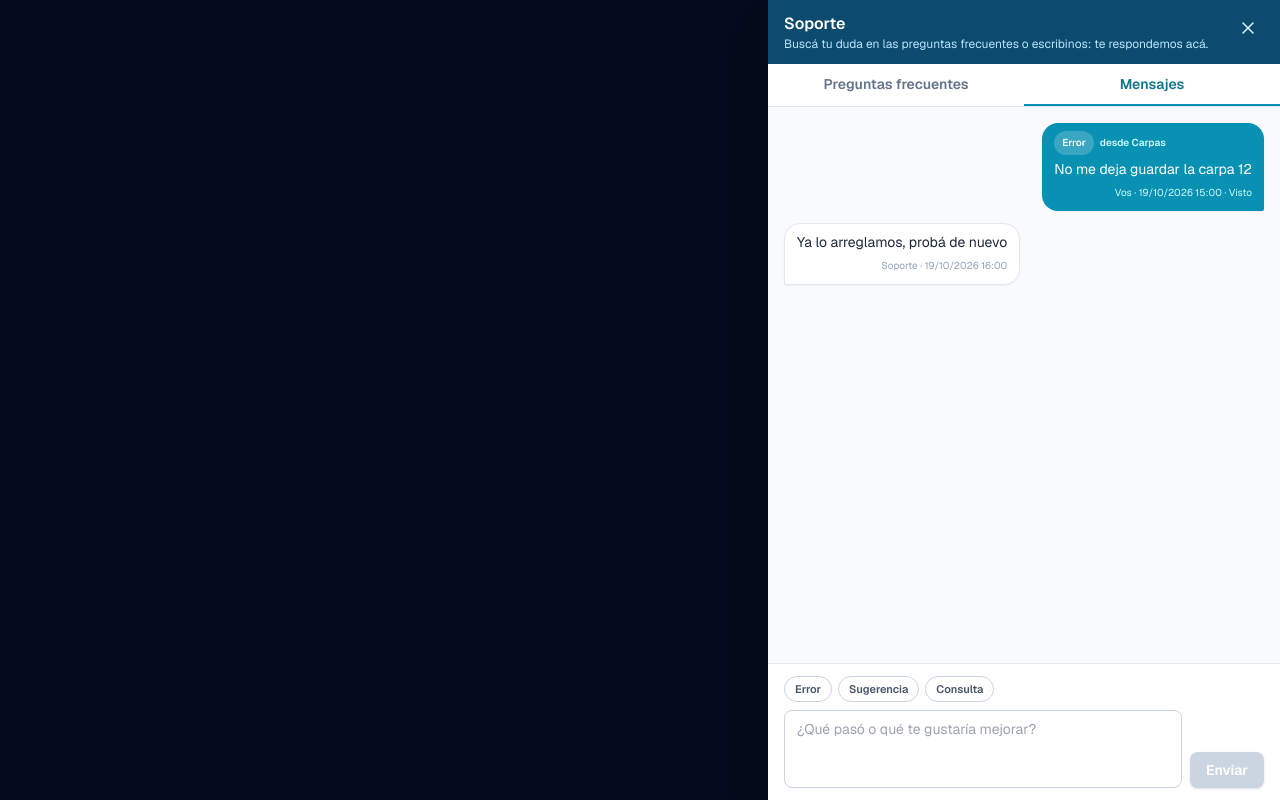
it: panel de soporte del balneario › si la API frena el envio, muestra el aviso y conserva lo escrito
Expected: the text "No me deja guardar la carpa 12" is shown, [1054, 159, 1252, 179]
Type "hola" into the text box named "Mensaje".
click(983, 749); type("hola")  # box [784, 710, 1182, 788]
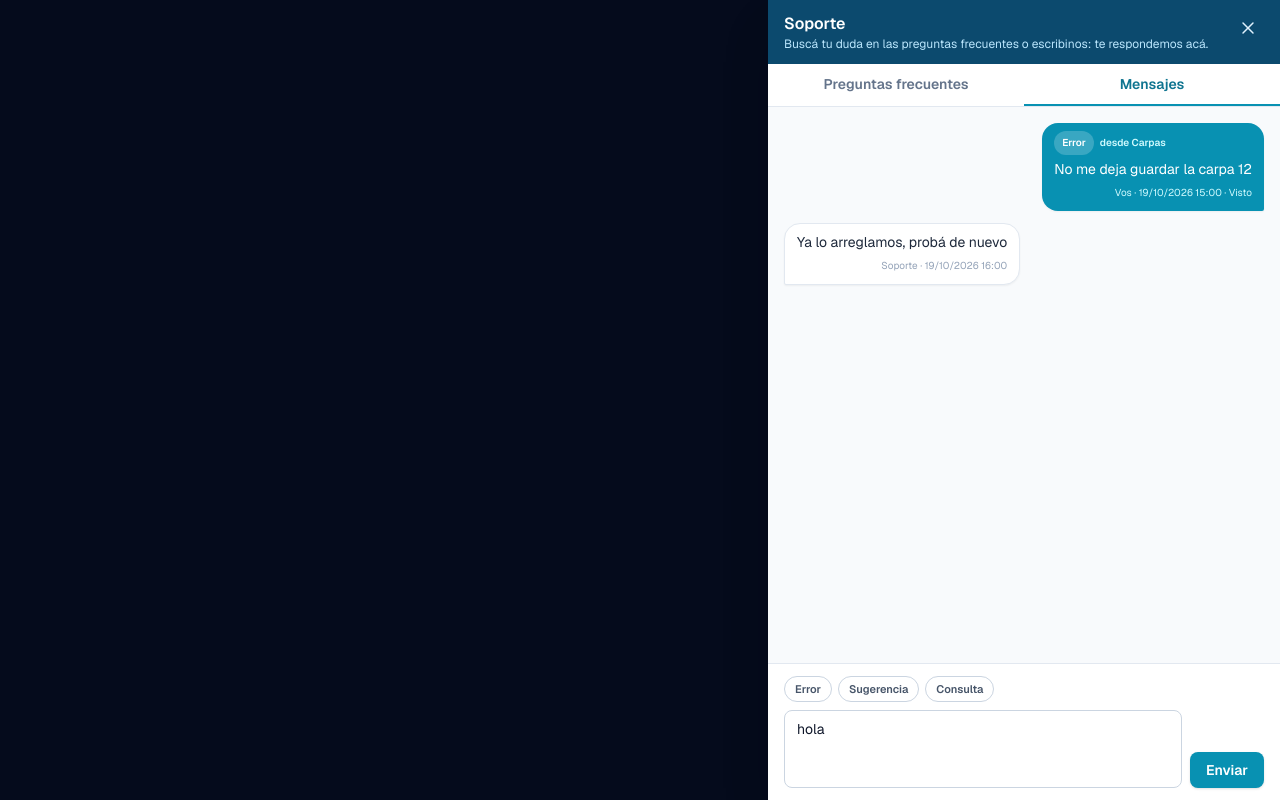
Click the button "Enviar".
click(1227, 770)  # box [1190, 752, 1264, 788]
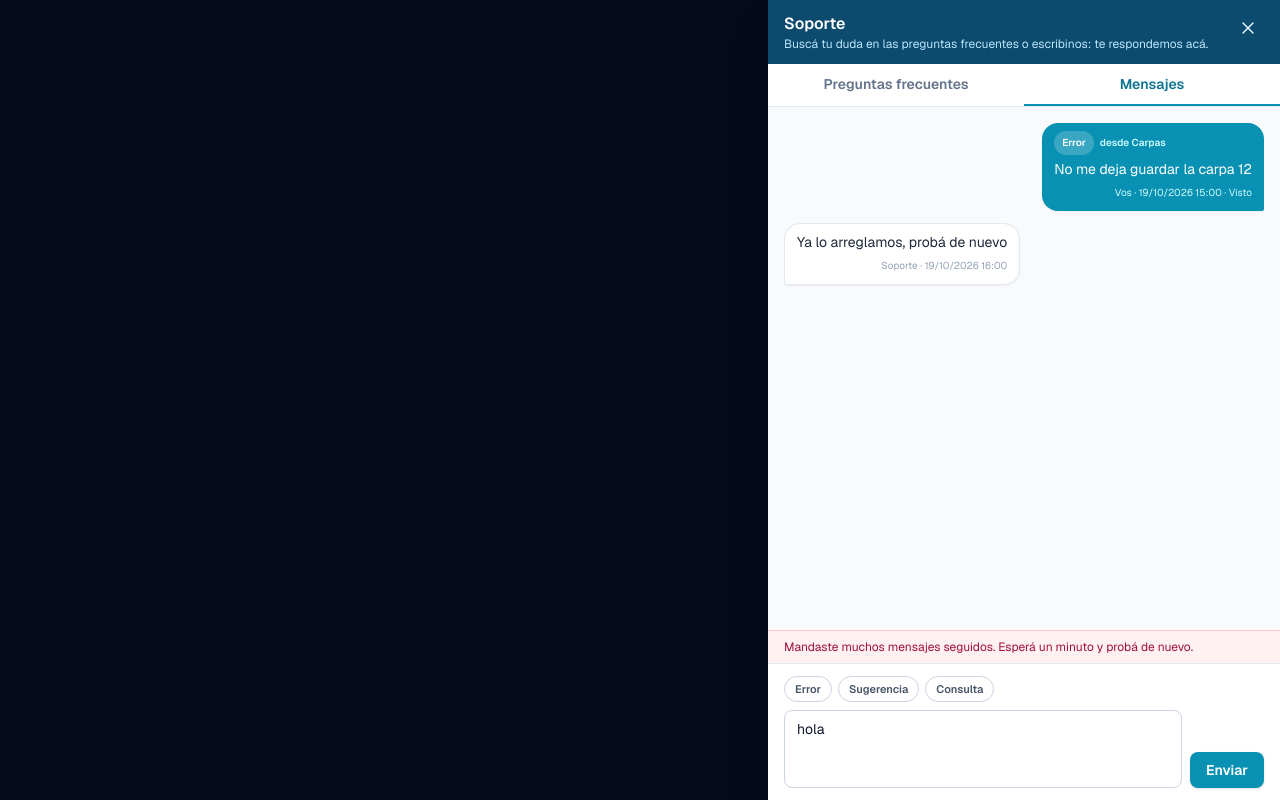
Expected: the message shows "Esperá un minuto", [784, 638, 1193, 654]
